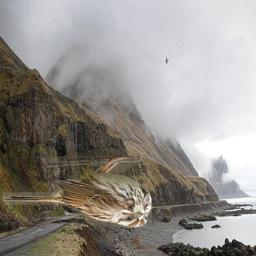Sparrow: (3, 156, 152, 228)
